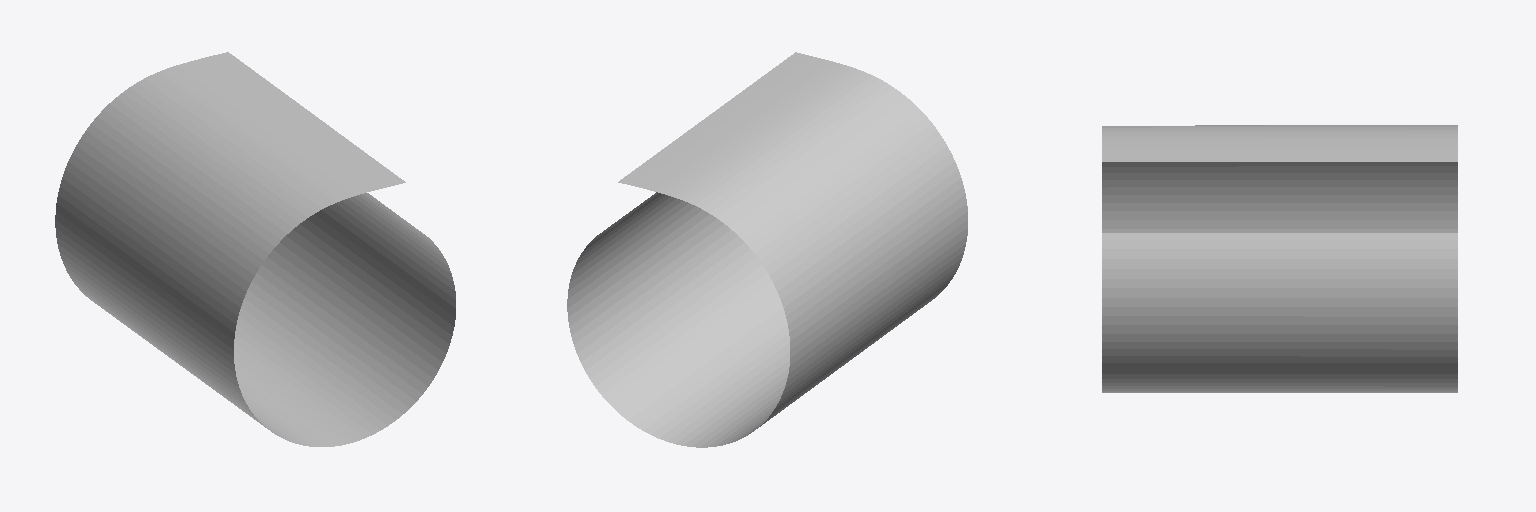
File: CurvePaper_000005.obj
The picture shows the model from 3 angles: view 1: azimuth 30°, elevation 25°; view 2: azimuth 150°, elevation 25°; view 3: azimuth 270°, elevation 25°; orthographic projection.
Visible parts, largest first — view 1: Plane; view 2: Plane; view 3: Plane.
Part boxes in pixels (bbox=[...]): Plane: bbox=[55, 52, 455, 446]; Plane: bbox=[567, 52, 967, 447]; Plane: bbox=[1102, 125, 1457, 392].
Size of the model in its own units: 1.64 by 1.74 by 2.26.